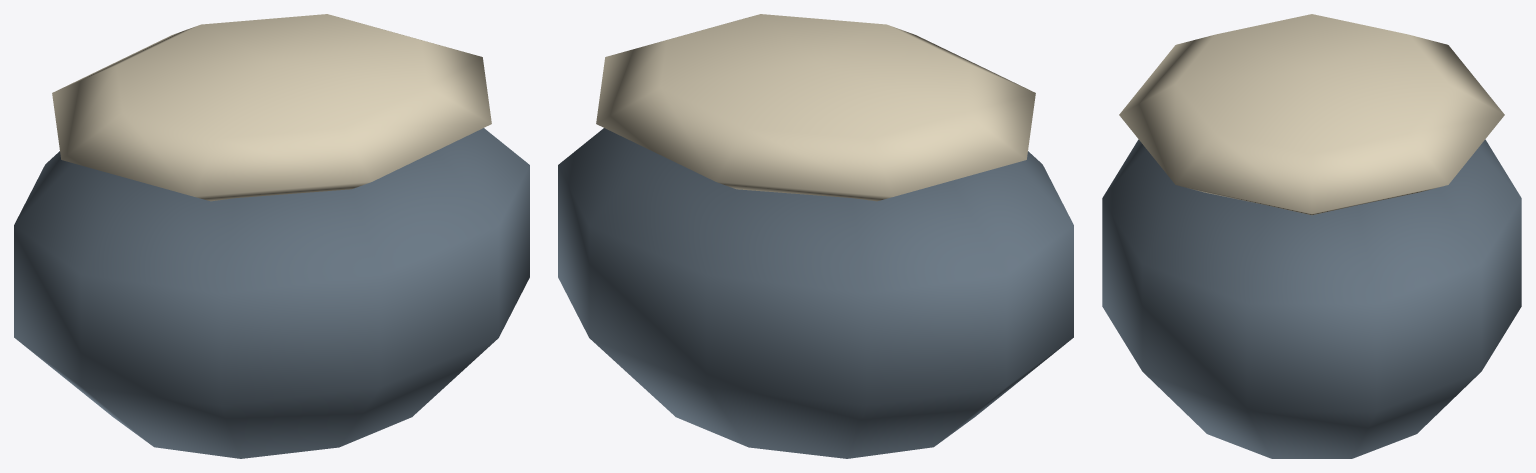
Rendered from rock_frost.glb.
3 renders of one model, left to right at view 1: azimuth 30°, elevation 25°; view 2: azimuth 150°, elevation 25°; view 3: azimuth 270°, elevation 25°, orthographic. The views are drawn at different scales.
Visible parts, largest first — view 1: rock_frost; view 2: rock_frost; view 3: rock_frost.
Part boxes in pixels (x1=…): rock_frost: x1=14, y1=14, x2=529, y2=458; rock_frost: x1=558, y1=14, x2=1073, y2=458; rock_frost: x1=1102, y1=14, x2=1521, y2=458.
Size of the model in its own units: 1.81 by 1.43 by 1.52.
